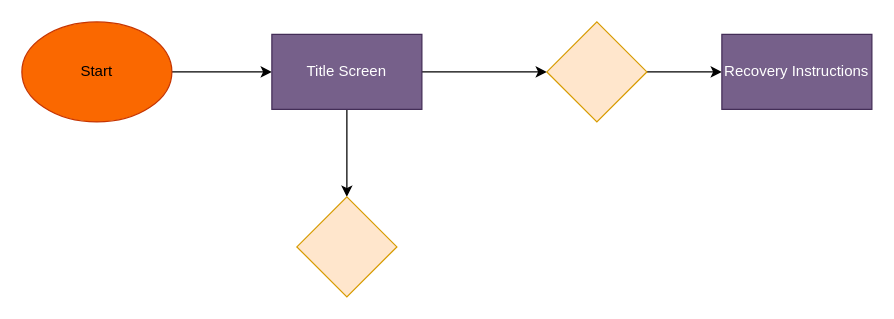
Image size: 894x319. Some labels were removed from this diagram. Each missing label, with the centre of its shape:
Forgot Password: point (596, 71)
Login: point (346, 246)
